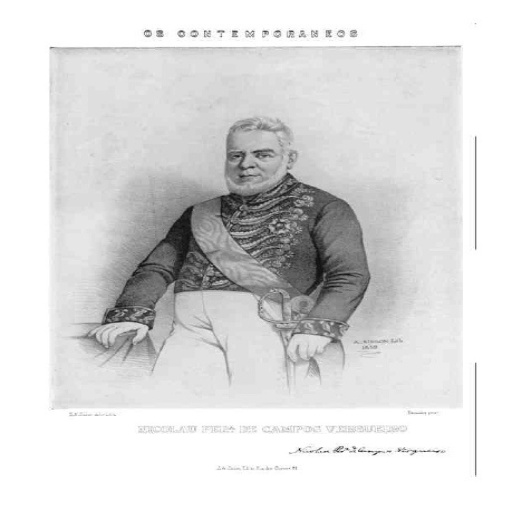hand: (92, 311, 149, 360), (286, 332, 334, 364)
